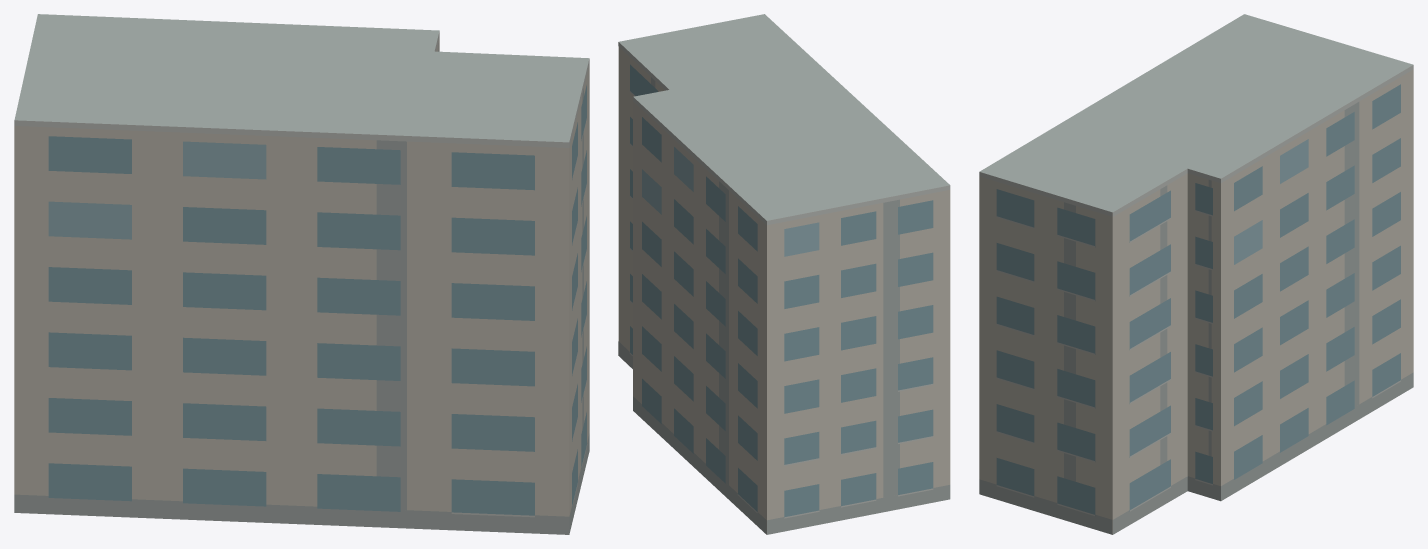
The model's file is survey-upis-32992733.glb.
The picture shows the model from 3 angles, left to right: view 1: azimuth 30°, elevation 25°; view 2: azimuth 150°, elevation 25°; view 3: azimuth 270°, elevation 25°; orthographic projection. The views are drawn at different scales.
Parts seen in each view (by area): view 1: survey-upis-32992733.tmp; view 2: survey-upis-32992733.tmp; view 3: survey-upis-32992733.tmp.
Part boxes in pixels (x1=…): survey-upis-32992733.tmp: x1=14, y1=14, x2=589, y2=534; survey-upis-32992733.tmp: x1=618, y1=14, x2=950, y2=534; survey-upis-32992733.tmp: x1=979, y1=14, x2=1413, y2=534.
Bounding box in the file's own units: 22.58 × 17.1 × 20.89.
